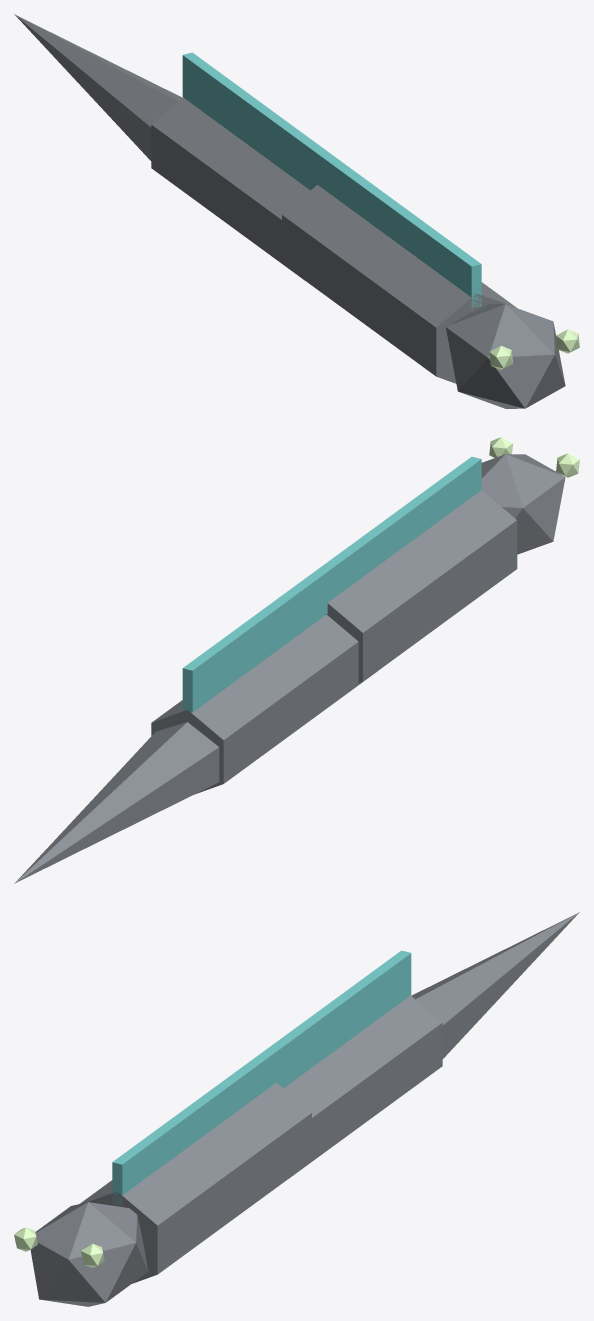
Rendered from Eel.fbx.
3 views of the same model, one above another, from view 1: azimuth 30°, elevation 25°; view 2: azimuth 150°, elevation 25°; view 3: azimuth 330°, elevation 25° (orthographic).
Parts seen in each view (by area): view 1: Body, Limb_Head, Limb_Tail; view 2: Body, Limb_Tail, Limb_Head; view 3: Body, Limb_Head, Limb_Tail.
Part boxes in pixels (x1=…): Body: x1=151, y1=52, x2=516, y2=383; Limb_Head: x1=446, y1=304, x2=579, y2=408; Limb_Tail: x1=14, y1=14, x2=182, y2=160; Body: x1=151, y1=456, x2=517, y2=794; Limb_Tail: x1=14, y1=722, x2=219, y2=883; Limb_Head: x1=481, y1=437, x2=579, y2=554; Body: x1=80, y1=950, x2=442, y2=1283; Limb_Head: x1=14, y1=1202, x2=148, y2=1306; Limb_Tail: x1=411, y1=912, x2=579, y2=1058.
Size of the model in its own units: 0.2862 by 0.365 by 2.73.
